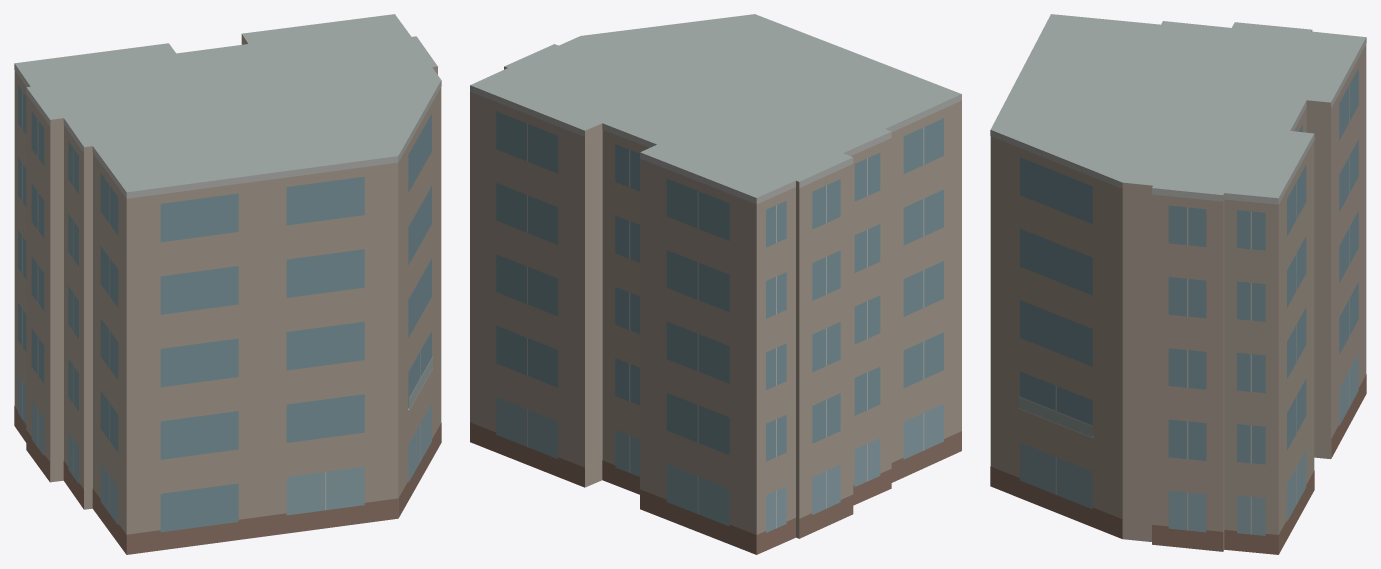
Rendered from survey-upis-32658272.glb.
3 renders of one model, left to right at view 1: azimuth 30°, elevation 25°; view 2: azimuth 150°, elevation 25°; view 3: azimuth 270°, elevation 25°, orthographic.
Visible parts, largest first — view 1: survey-upis-32658272.tmp; view 2: survey-upis-32658272.tmp; view 3: survey-upis-32658272.tmp.
Part boxes in pixels (<box>): survey-upis-32658272.tmp: <box>14,14,441,554</box>; survey-upis-32658272.tmp: <box>470,14,961,554</box>; survey-upis-32658272.tmp: <box>990,14,1366,554</box>.
Size of the model in its own units: 15.14 by 13.65 by 13.05.
